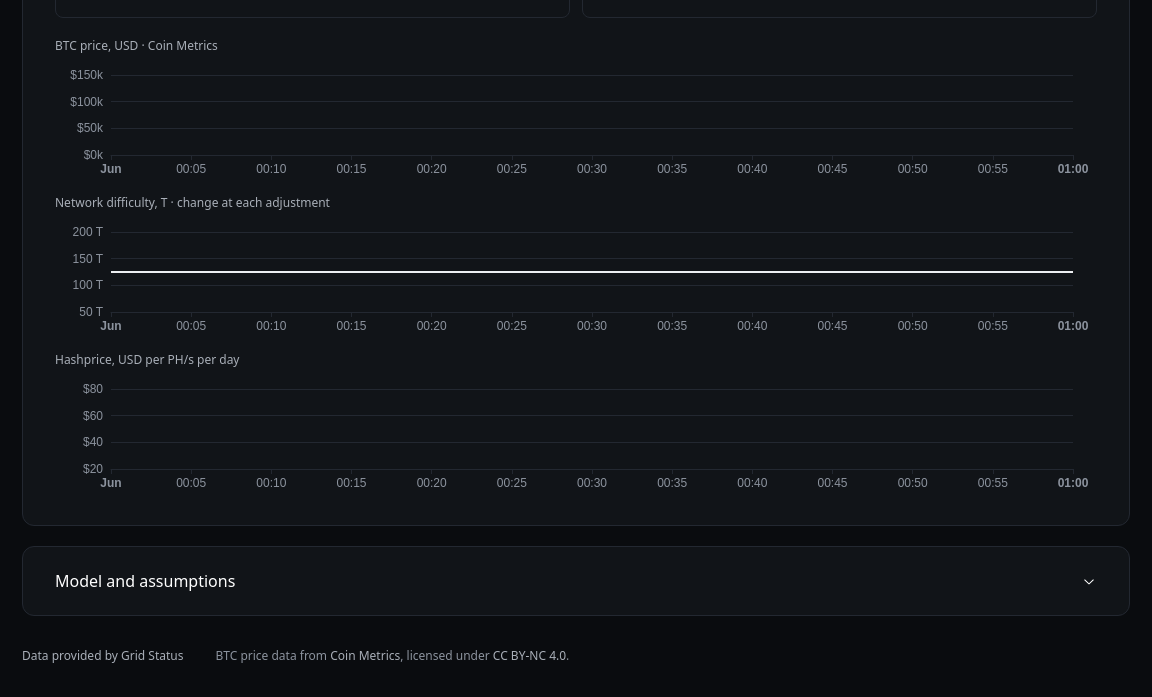
it: App › lists the assumptions and the data attributions
(page scrolled)
What coordinates should you click on to do the following:
click the button "Model and assumptions"
I would click on:
 (145, 581)
Its box is [23,547,1129,616].
(page scrolled)
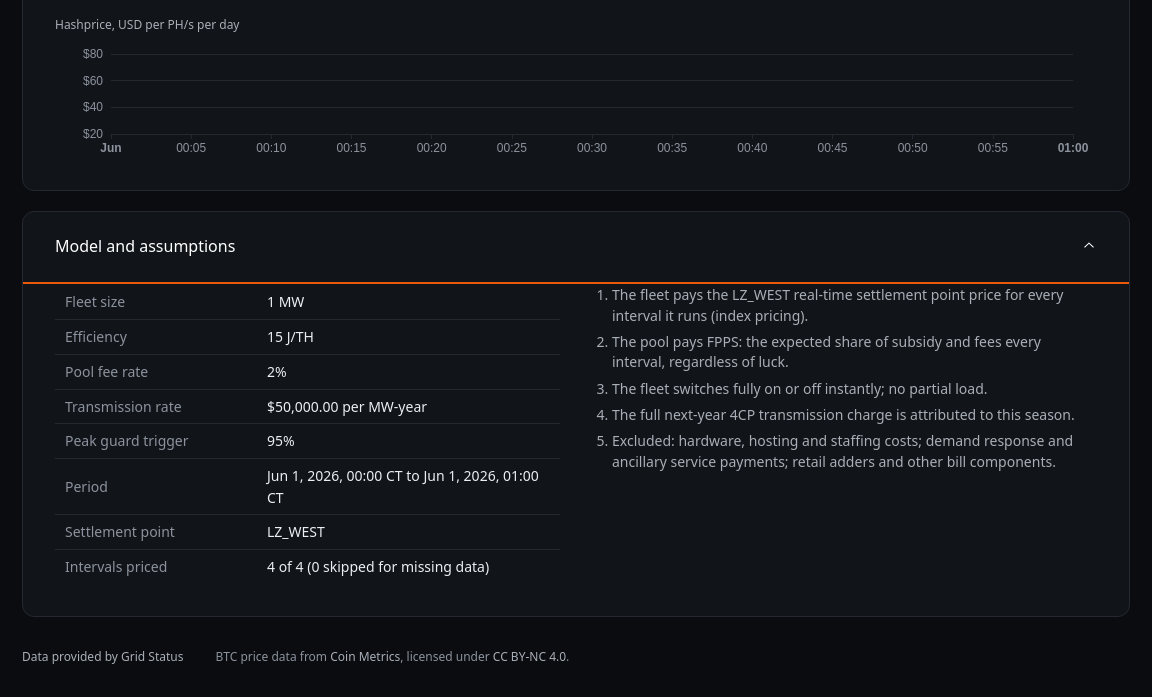
Expected: the row "Efficiency 15 J/TH" is shown, [55,320,560,354]
Expected: the text "$50,000.00 per MW-year" is shown, [257,389,560,424]
Expected: the row "Pool fee rate 2%" is shown, [55,354,560,389]
